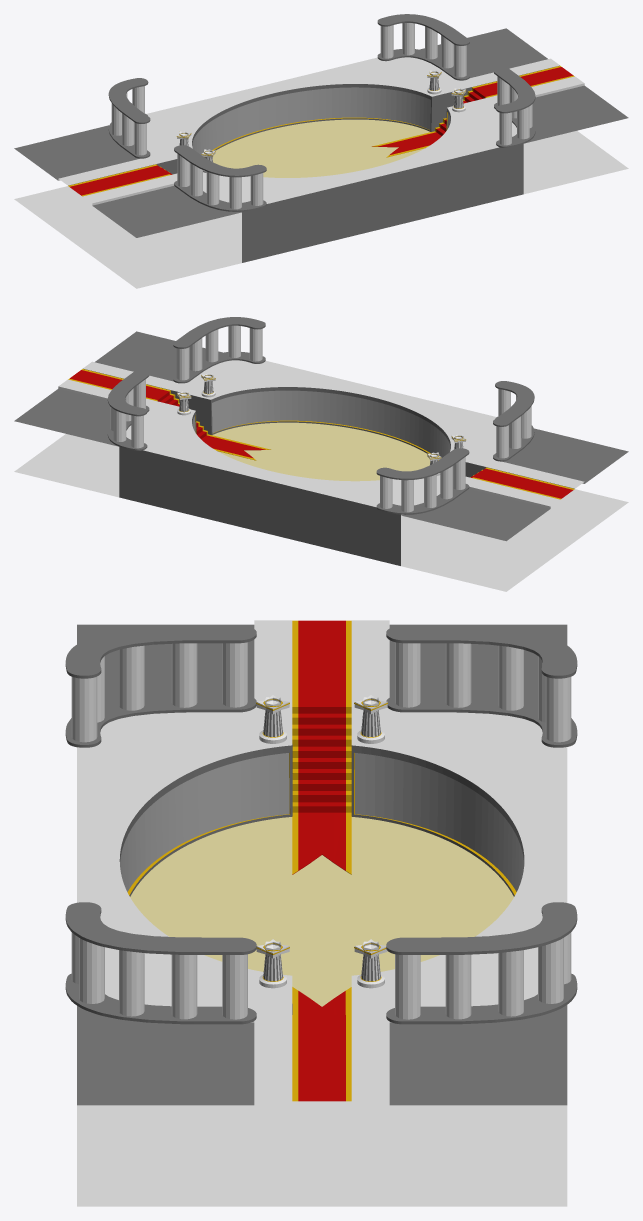
The model's file is Cosmostasia_Arena1.glb.
3 views of the same model, one above another, from view 1: azimuth 30°, elevation 25°; view 2: azimuth 150°, elevation 25°; view 3: azimuth 270°, elevation 25° (orthographic). The views are drawn at different scales.
Parts seen in each view (by area): view 1: MainArena, PillarsSW, PillarsNE, PillarsNW, PillarsSE, TapisW.001; view 2: MainArena, PillarsSE, PillarsNW, PillarsSW, PillarsNE, TapisW.001; view 3: MainArena, PillarsNE, PillarsSE, PillarsSW, PillarsNW, TapisW, TapisW.001, BrasierWNW, BrasierESE, BrasierWSW, BrasierENE.
Boxes of the visible parts, x1,y1,x2,y2 form: MainArena: [14, 28, 628, 288]; PillarsSW: [174, 145, 266, 211]; PillarsNE: [377, 14, 469, 80]; PillarsNW: [108, 78, 150, 158]; PillarsSE: [494, 67, 535, 147]; TapisW.001: [372, 131, 441, 157]; MainArena: [14, 331, 628, 591]; PillarsSE: [173, 317, 265, 383]; PillarsNW: [376, 448, 469, 514]; PillarsSW: [493, 381, 534, 461]; PillarsNE: [107, 370, 149, 450]; TapisW.001: [201, 434, 270, 460]; MainArena: [77, 620, 567, 1206]; PillarsNE: [386, 902, 577, 1024]; PillarsSE: [65, 902, 256, 1024]; PillarsSW: [65, 625, 256, 747]; PillarsNW: [386, 625, 577, 747]; TapisW: [292, 812, 351, 874]; TapisW.001: [292, 987, 351, 1014]; BrasierWNW: [354, 695, 387, 743]; BrasierESE: [256, 939, 289, 988]; BrasierWSW: [256, 695, 289, 743]; BrasierENE: [354, 939, 387, 988].
Bounding box in the file's own units: 29.2 × 5.04 × 13.14.
